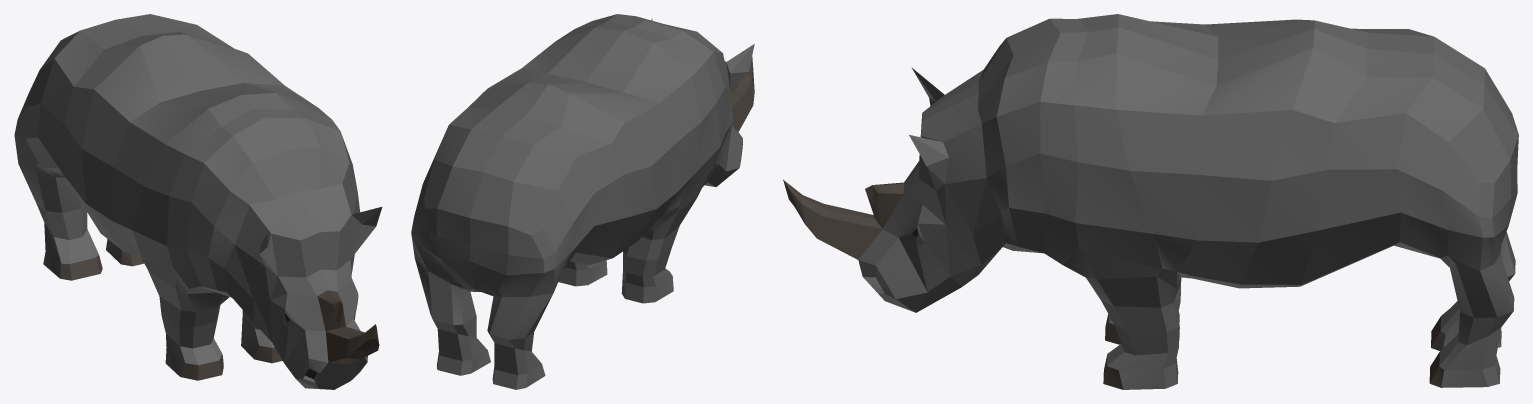
The model's file is rhino.gltf.
3 renders of one model, left to right at view 1: azimuth 30°, elevation 25°; view 2: azimuth 150°, elevation 25°; view 3: azimuth 270°, elevation 25°, orthographic. The views are drawn at different scales.
Visible parts, largest first — view 1: Rhino; view 2: Rhino; view 3: Rhino.
Boxes of the visible parts, x1,y1,x2,y2 form: Rhino: (14,14,382,389); Rhino: (411,14,754,389); Rhino: (783,14,1518,389).
Bounding box in the file's own units: 3.4 × 4.49 × 9.12.
1 material, 1 textured.
